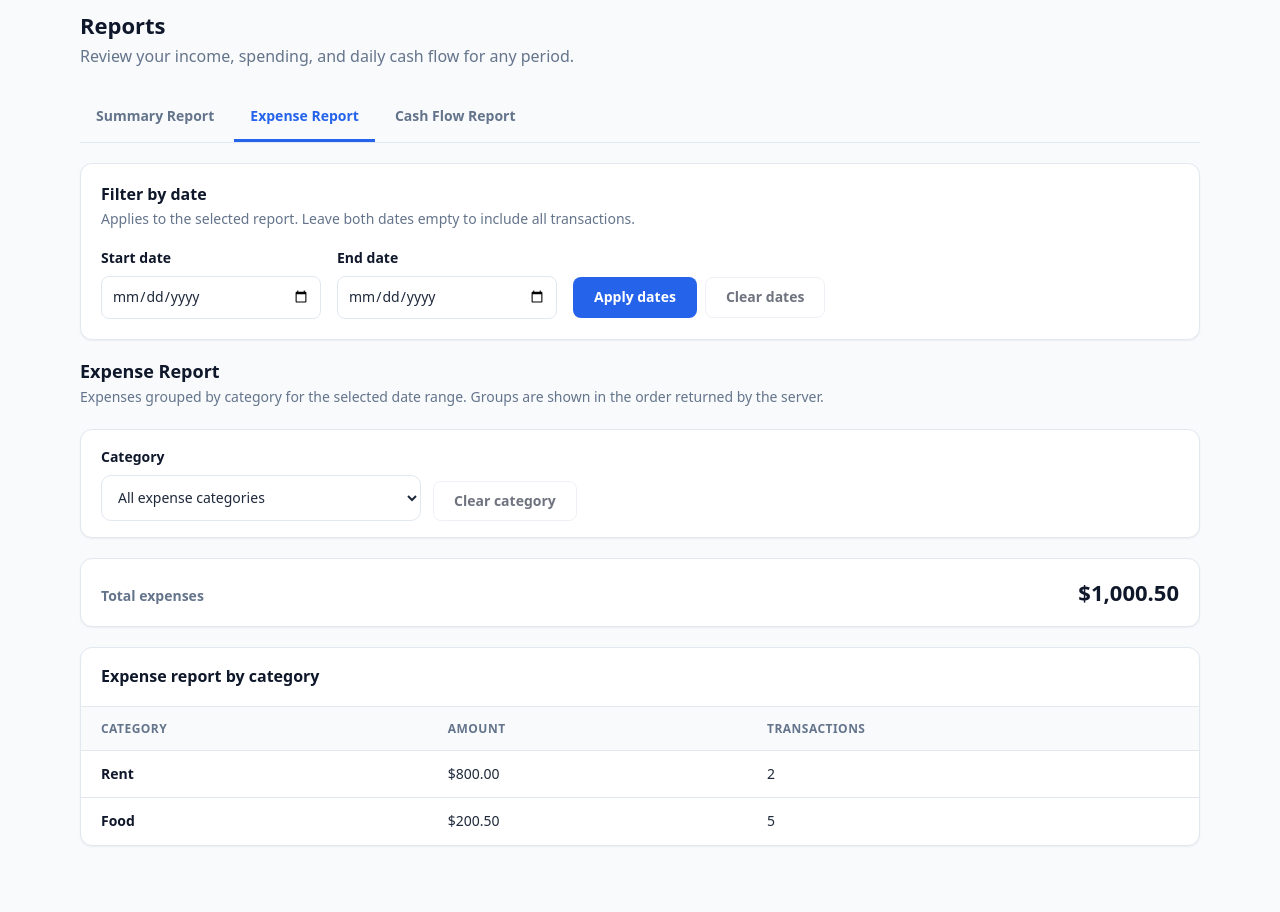
ReportsPage expense report › clears the date and category filters and returns to unfiltered results
Type "2026-10-01" into the date field labelled "Start date" at (211, 298), box [101,276,321,319]
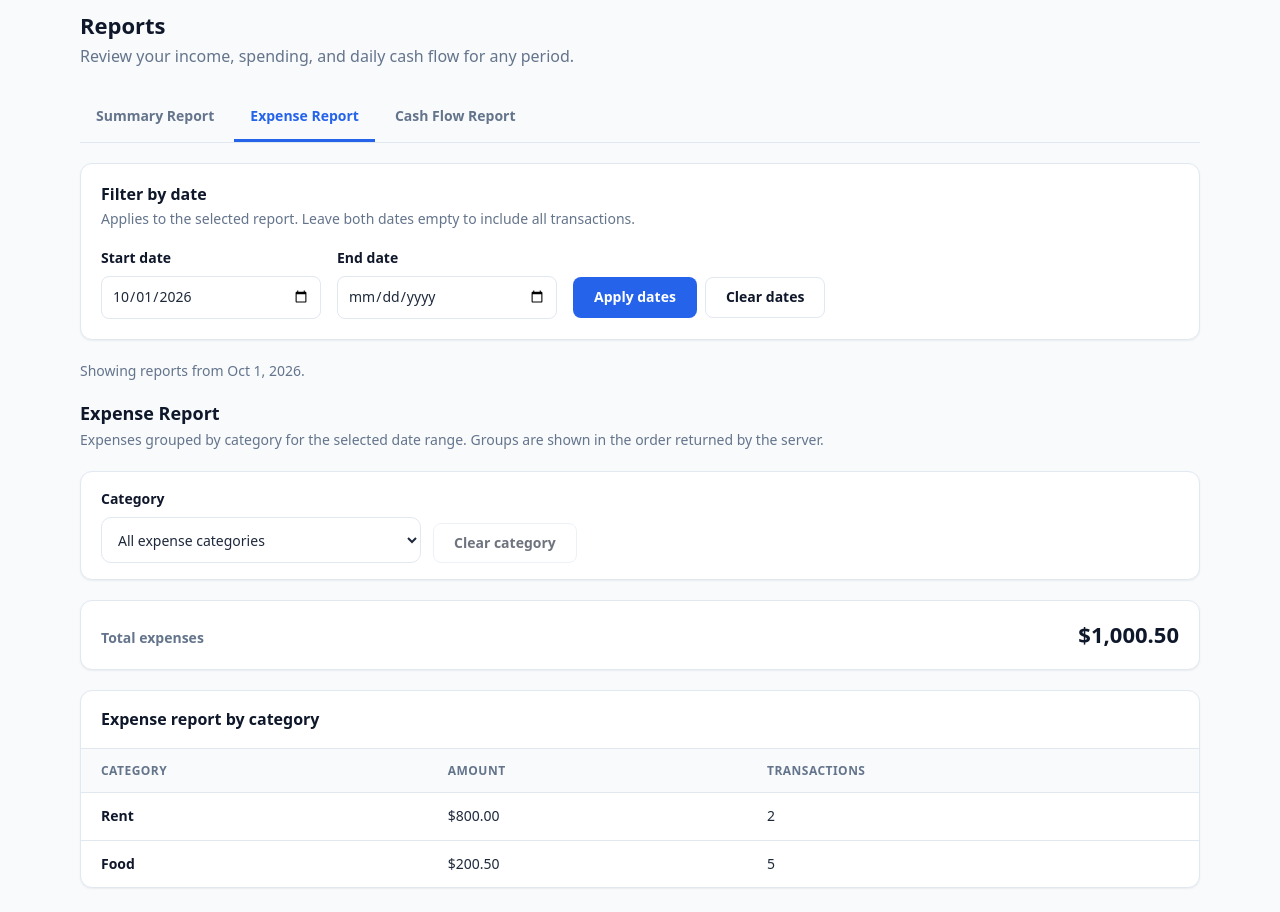
Select "Food" in the dropdown labelled "Category" at (261, 540), box [101,517,421,563]
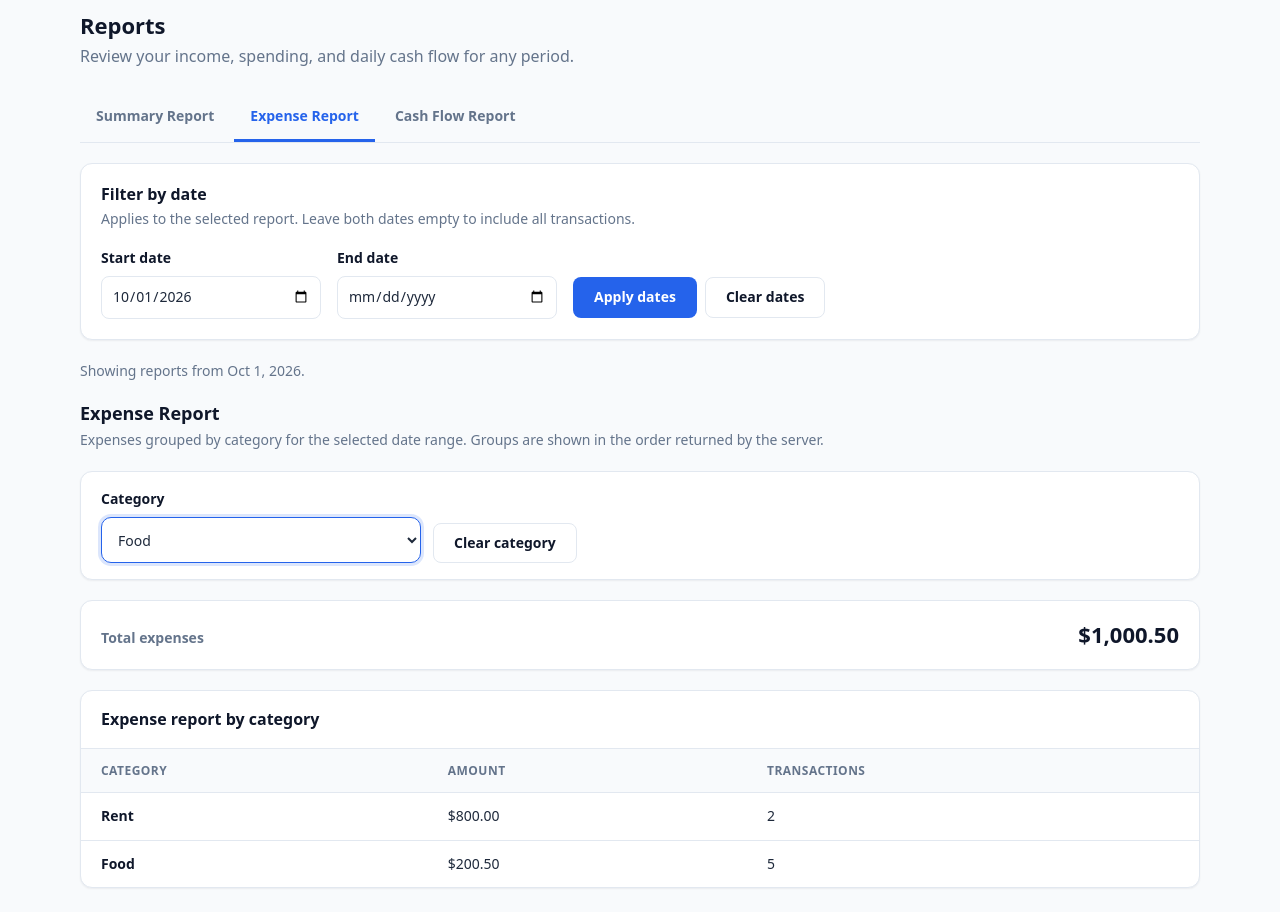
Click the button "Clear category" at (505, 543), box [433,523,577,563]
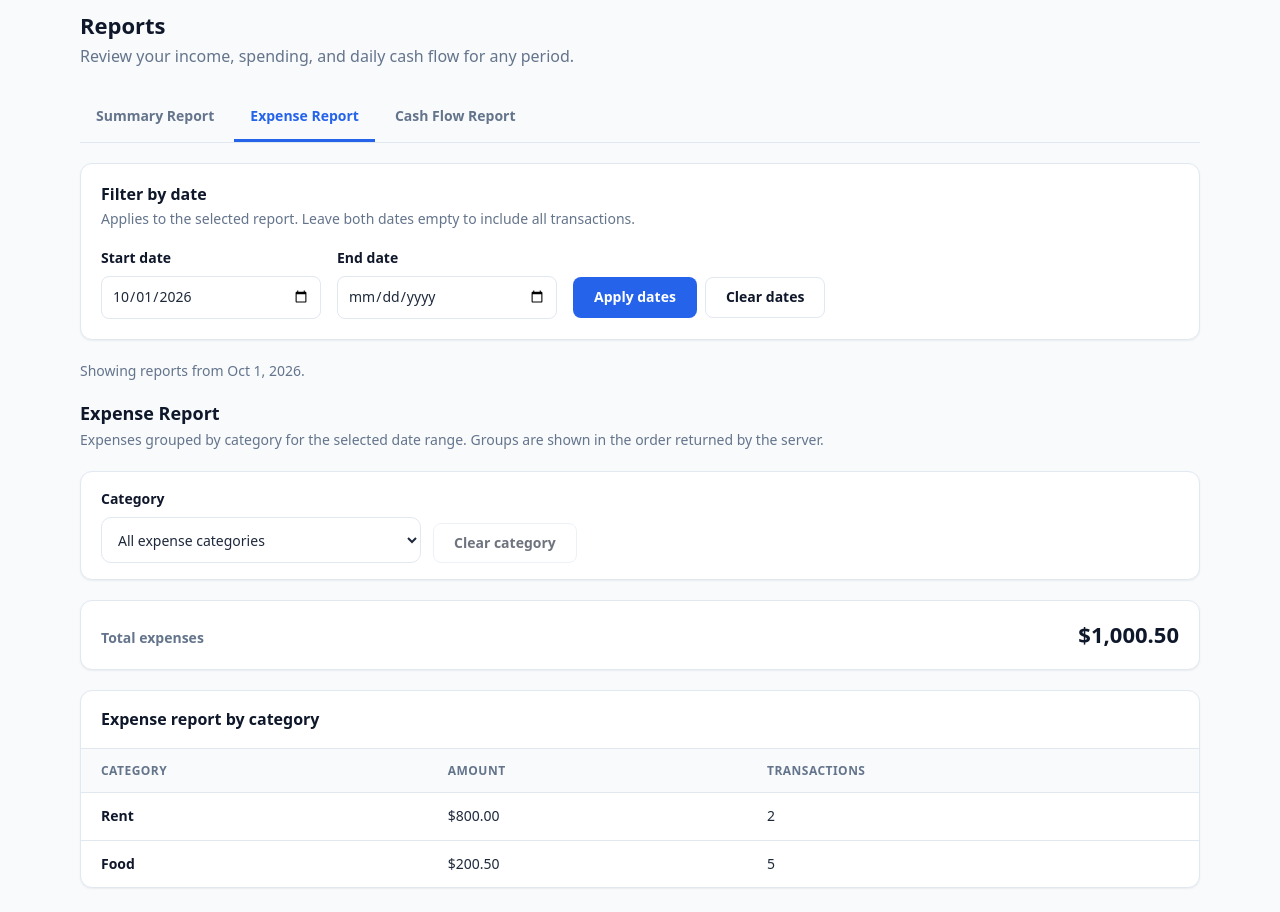
Click the button "Clear dates" at (765, 298), box [705,277,825,318]
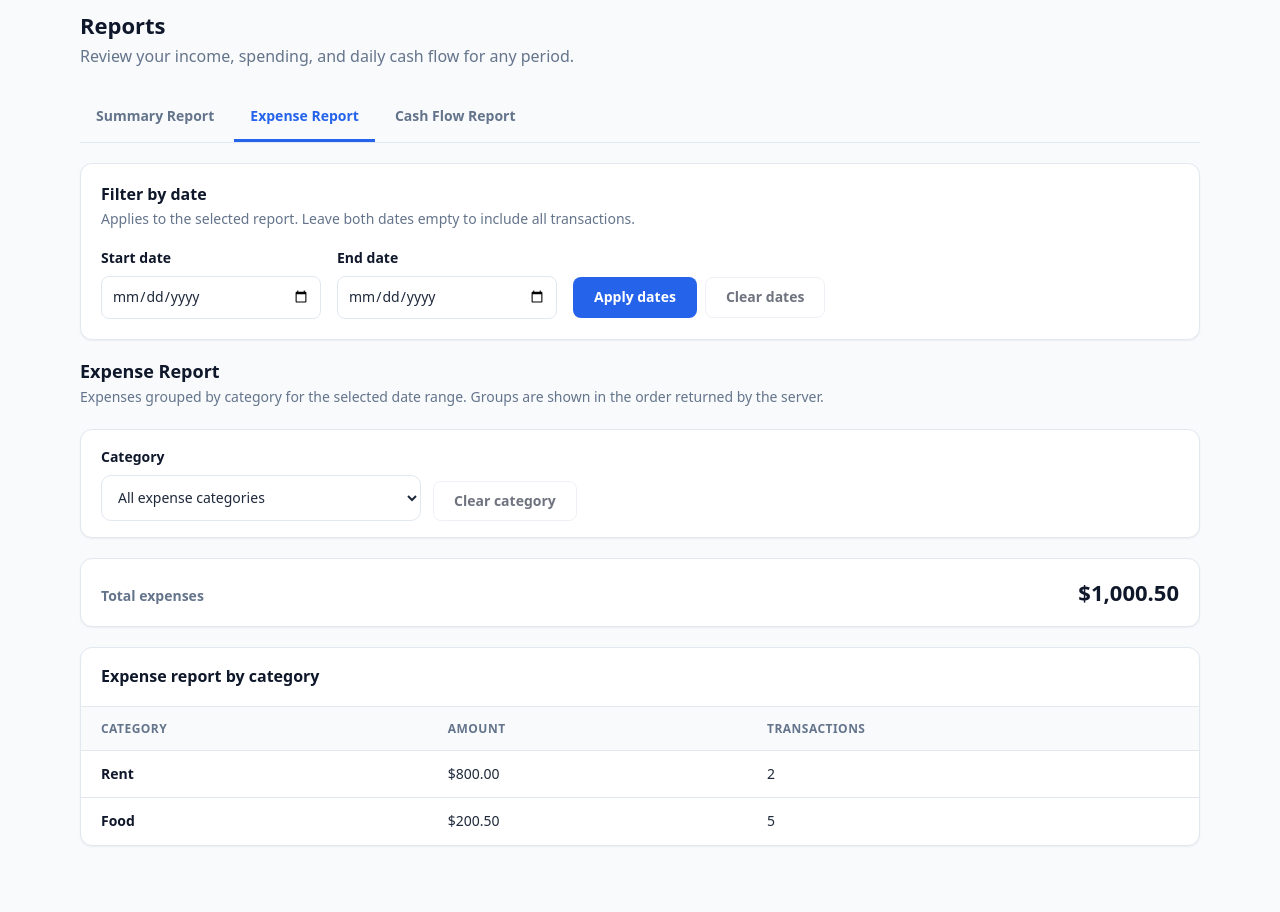
Check: the date field labelled "Start date" is empty, box [101,276,321,319]
